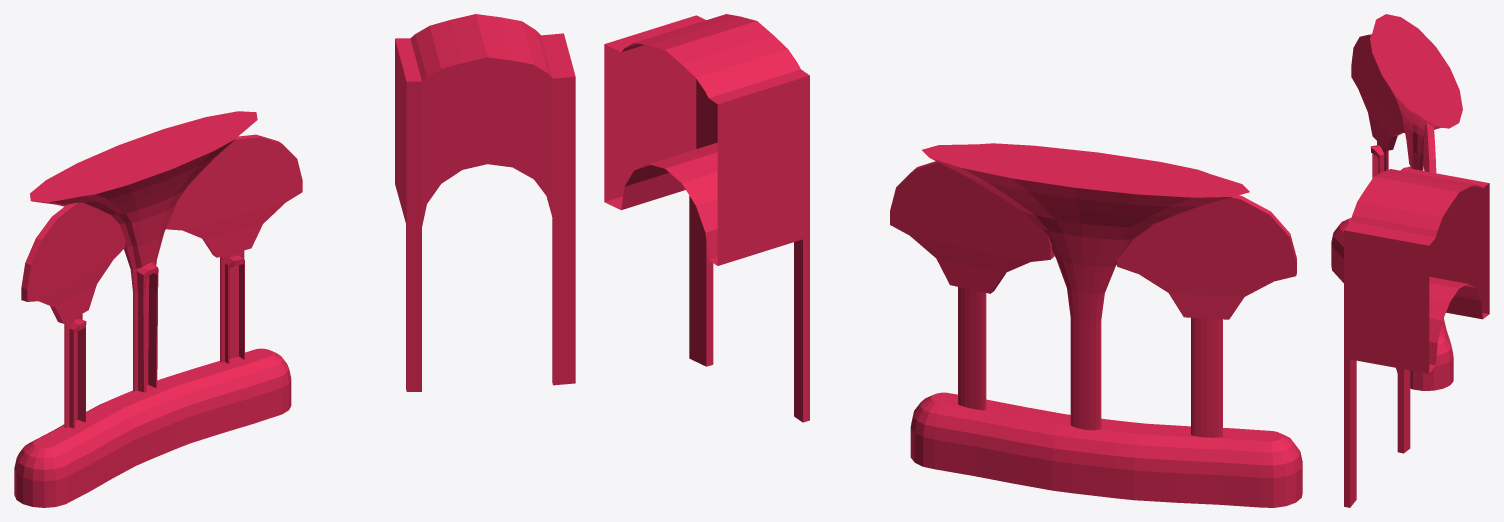
File: chao3.fbx
3 renders of one model, left to right at view 1: azimuth 30°, elevation 25°; view 2: azimuth 150°, elevation 25°; view 3: azimuth 270°, elevation 25°, orthographic. The views are drawn at different scales.
Parts seen in each view (by area): view 1: Torus.004, Sphere.010, Cylinder.081, Cylinder.077, Cylinder.082; view 2: Torus.004, Sphere.010, Cylinder.081, Cylinder.082, Cylinder.077; view 3: Torus.004, Cylinder.081, Cylinder.082, Sphere.010, Cylinder.077.
Boxes of the visible parts, x1=… form: Torus.004: x1=395, y1=14, x2=575, y2=391; Sphere.010: x1=14, y1=348, x2=291, y2=507; Cylinder.081: x1=30, y1=111, x2=257, y2=392; Cylinder.077: x1=166, y1=134, x2=302, y2=363; Cylinder.082: x1=21, y1=202, x2=125, y2=428; Torus.004: x1=604, y1=14, x2=809, y2=422; Sphere.010: x1=910, y1=392, x2=1302, y2=507; Cylinder.081: x1=922, y1=143, x2=1249, y2=430; Cylinder.082: x1=1117, y1=195, x2=1296, y2=437; Cylinder.077: x1=890, y1=161, x2=1054, y2=410; Torus.004: x1=1344, y1=167, x2=1489, y2=507; Cylinder.081: x1=1370, y1=14, x2=1462, y2=170; Cylinder.082: x1=1351, y1=34, x2=1404, y2=178; Sphere.010: x1=1331, y1=217, x2=1453, y2=390; Cylinder.077: x1=1423, y1=122, x2=1436, y2=173.
Bounding box in the file's own units: 1346 × 729 × 350.
